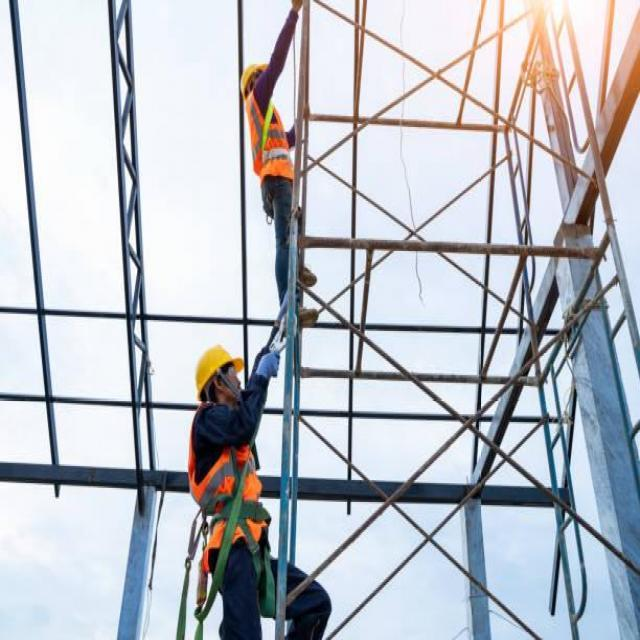belt: (190, 404, 280, 619)
